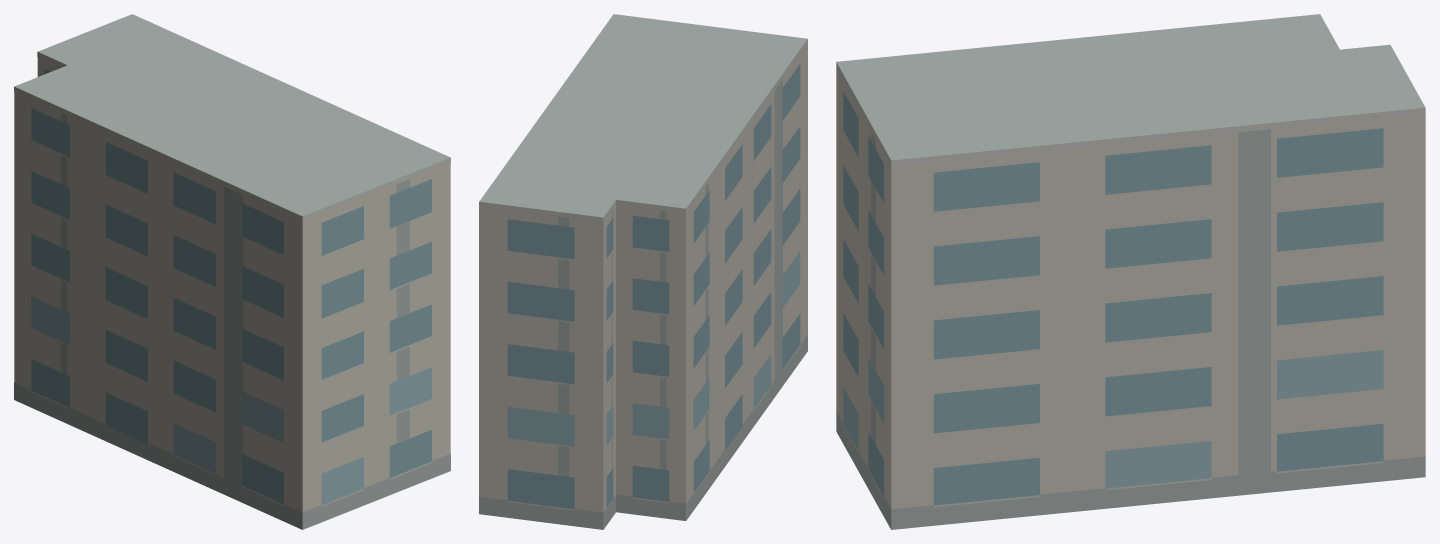
File: survey-upis-32608897.glb
3 views of the same model, side by side, from view 1: azimuth 30°, elevation 25°; view 2: azimuth 150°, elevation 25°; view 3: azimuth 270°, elevation 25° (orthographic). The views are drawn at different scales.
Parts seen in each view (by area): view 1: survey-upis-32608897.tmp; view 2: survey-upis-32608897.tmp; view 3: survey-upis-32608897.tmp.
Boxes of the visible parts, x1,y1,x2,y2 form: survey-upis-32608897.tmp: (14, 14, 450, 529); survey-upis-32608897.tmp: (479, 14, 807, 529); survey-upis-32608897.tmp: (836, 14, 1425, 529).
Bounding box in the file's own units: 12.42 × 14.6 × 21.12.
